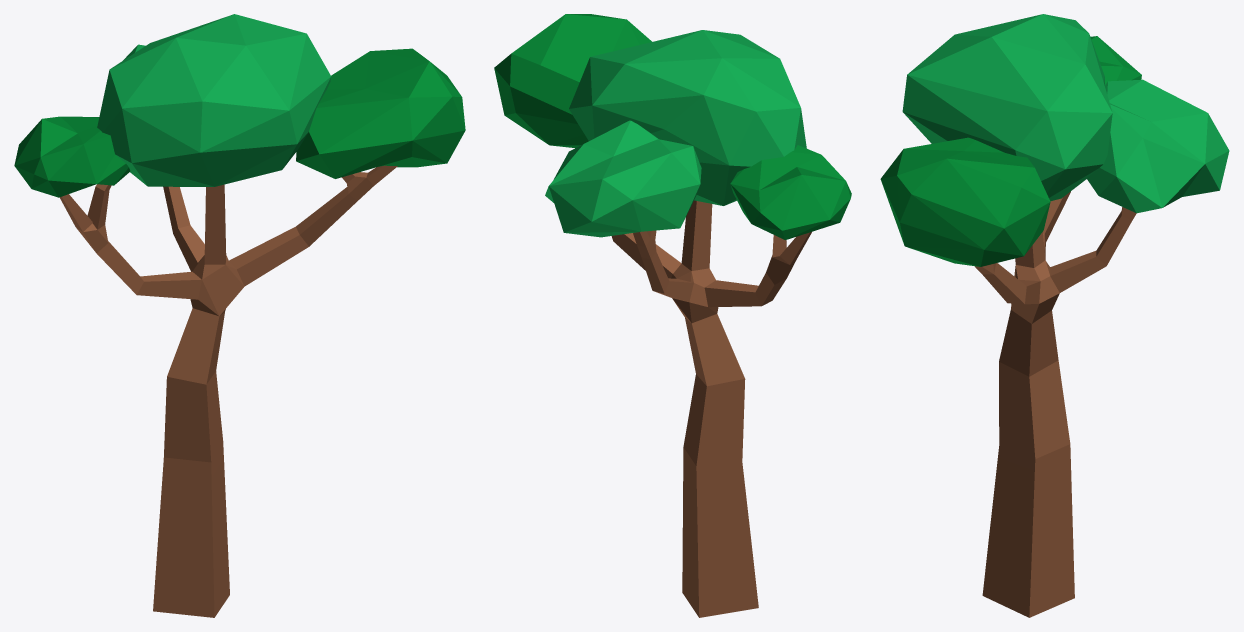
Rendered from tree1.glb.
3 views of the same model, side by side, from view 1: azimuth 30°, elevation 25°; view 2: azimuth 150°, elevation 25°; view 3: azimuth 270°, elevation 25° (orthographic). The views are drawn at different scales.
Visible parts, largest first — view 1: Arvore_Tres_Clara; view 2: Arvore_Tres_Clara; view 3: Arvore_Tres_Clara.
Boxes of the visible parts, box(x1,y1,x2,y2) form: Arvore_Tres_Clara: box(14, 14, 465, 617); Arvore_Tres_Clara: box(494, 14, 851, 617); Arvore_Tres_Clara: box(880, 14, 1229, 617).
Size of the model in its own units: 6.98 by 9.66 by 5.26.
1 material, 1 textured.
